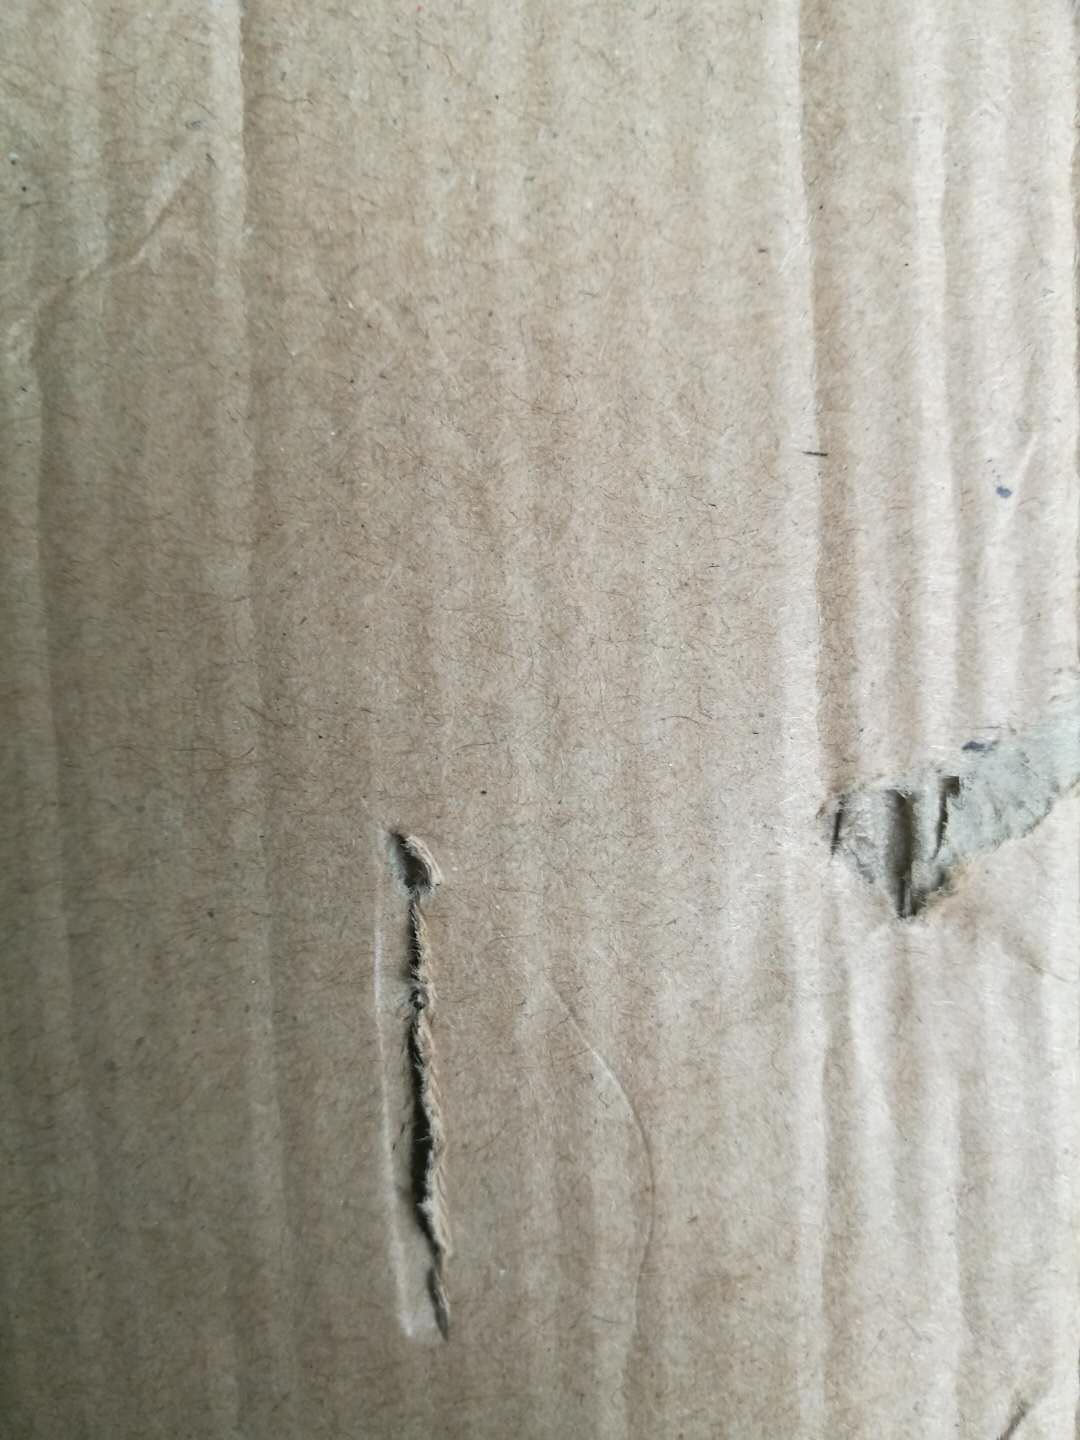defect: (9, 128, 195, 937), (328, 776, 505, 1367), (760, 641, 1079, 942), (769, 5, 892, 781), (212, 1, 280, 207)
